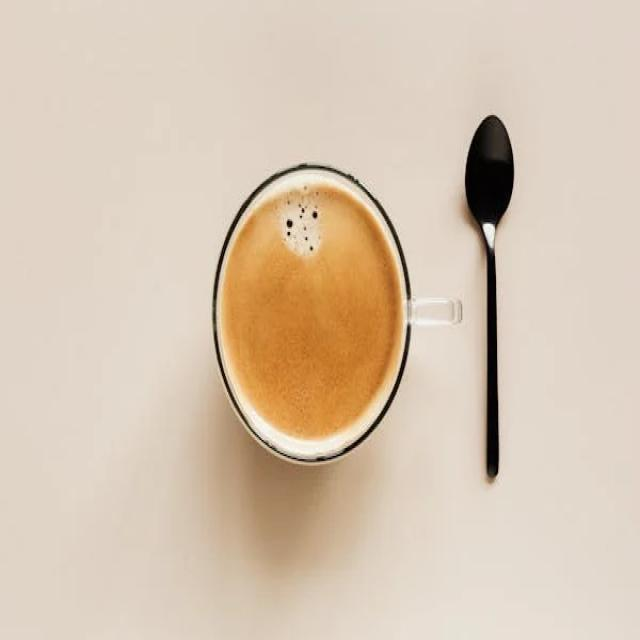spoon: (466, 114, 516, 485)
